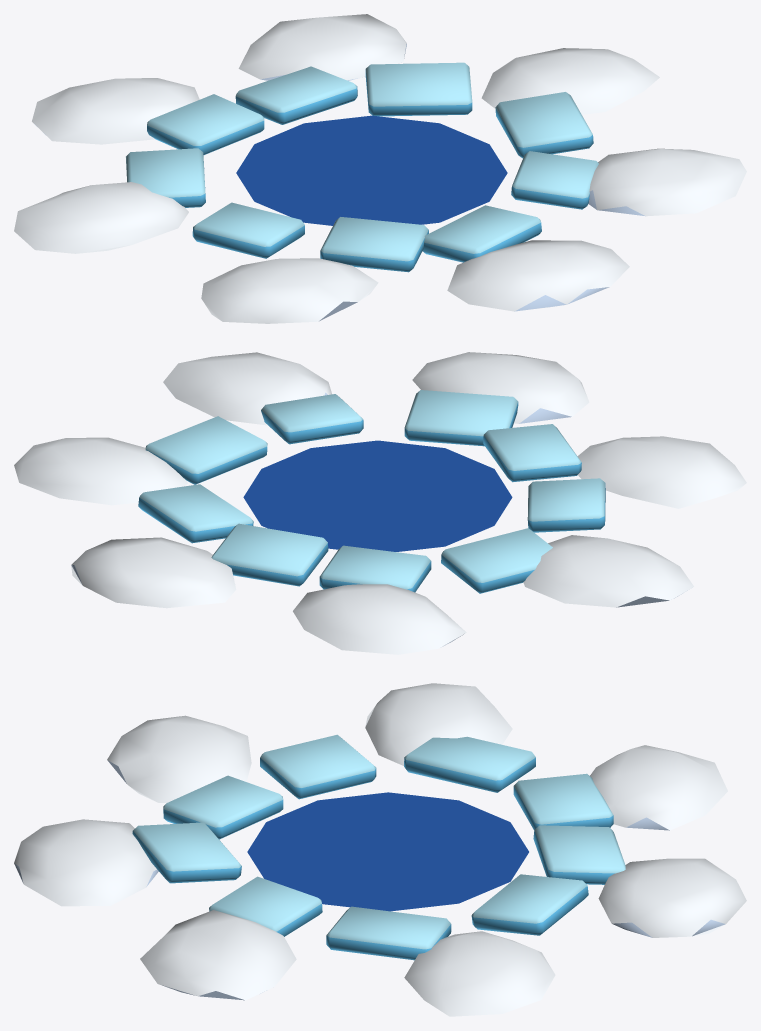
File: IceHole.fbx
The picture shows the model from 3 angles, top to bottom: view 1: azimuth 30°, elevation 25°; view 2: azimuth 150°, elevation 25°; view 3: azimuth 270°, elevation 25°; orthographic projection. The views are drawn at different scales.
Parts seen in each view (by area): view 1: IceHole; view 2: IceHole; view 3: IceHole.
Boxes of the visible parts, left/top/right/bottom form: IceHole: left=14, top=14, right=746, bottom=323; IceHole: left=14, top=352, right=746, bottom=654; IceHole: left=14, top=683, right=746, bottom=1016.
Size of the model in its own units: 2.31 by 0.0933 by 2.18.
Materials: 1 (1 with a texture image).
